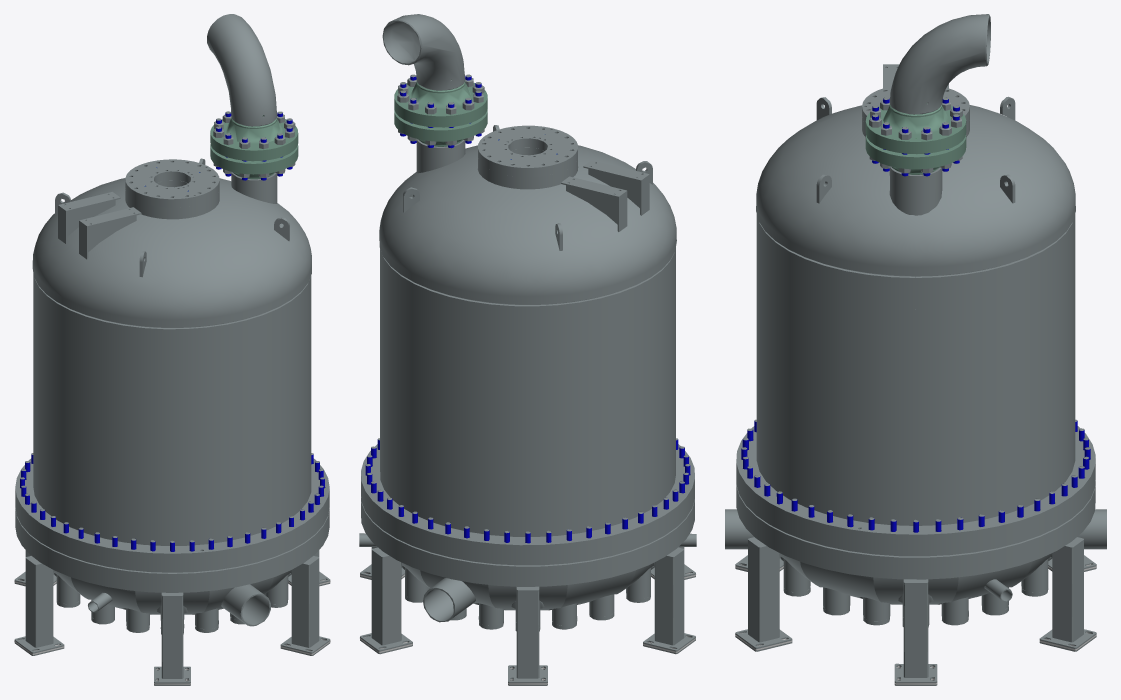
Rendered from f5_phx.glb.
3 renders of one model, left to right at view 1: azimuth 30°, elevation 25°; view 2: azimuth 150°, elevation 25°; view 3: azimuth 270°, elevation 25°, orthographic. The views are drawn at different scales.
Visible parts, largest first — view 1: f5_phx; view 2: f5_phx; view 3: f5_phx.
Boxes of the visible parts, x1,y1,x2,y2 form: f5_phx: (14,14,330,685); f5_phx: (359,14,696,685); f5_phx: (725,14,1106,685).
Size of the model in its own units: 1.64 by 2.92 by 1.59.
